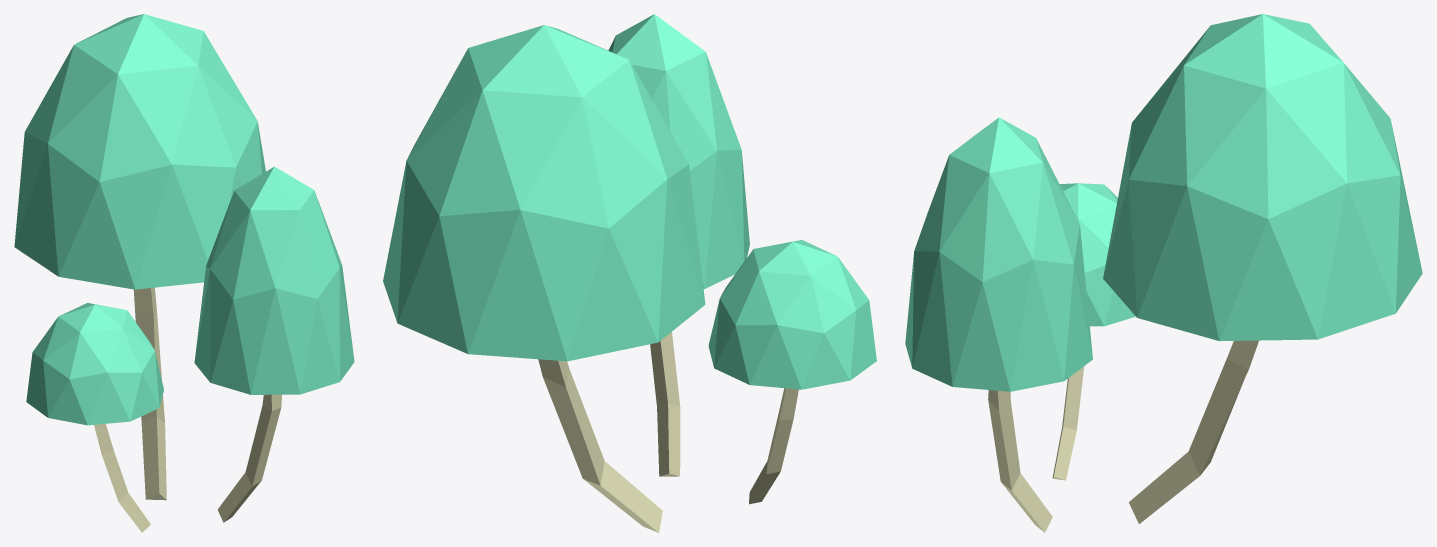
Rendered from cozy_mushroom_2.fbx.
The picture shows the model from 3 angles, left to right: view 1: azimuth 30°, elevation 25°; view 2: azimuth 150°, elevation 25°; view 3: azimuth 270°, elevation 25°; orthographic projection. The views are drawn at different scales.
Parts seen in each view (by area): view 1: Plane.001, Plane.002, Plane; view 2: Plane.001, Plane, Plane.002; view 3: Plane.001, Plane.002, Plane.
Boxes of the visible parts, x1=… form: Plane.001: x1=14, y1=14, x2=265, y2=500; Plane.002: x1=194, y1=166, x2=354, y2=522; Plane: x1=26, y1=303, x2=163, y2=532; Plane.001: x1=383, y1=25, x2=705, y2=532; Plane: x1=708, y1=240, x2=876, y2=504; Plane.002: x1=608, y1=14, x2=749, y2=476; Plane.001: x1=1103, y1=14, x2=1422, y2=523; Plane.002: x1=905, y1=117, x2=1092, y2=532; Plane: x1=1052, y1=183, x2=1135, y2=480.
Size of the model in its own units: 359 by 512 by 456.
